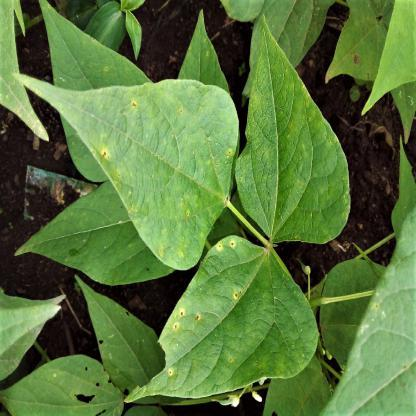Beans_Rust: (19, 66, 237, 259), (128, 233, 312, 400), (249, 13, 348, 245)
